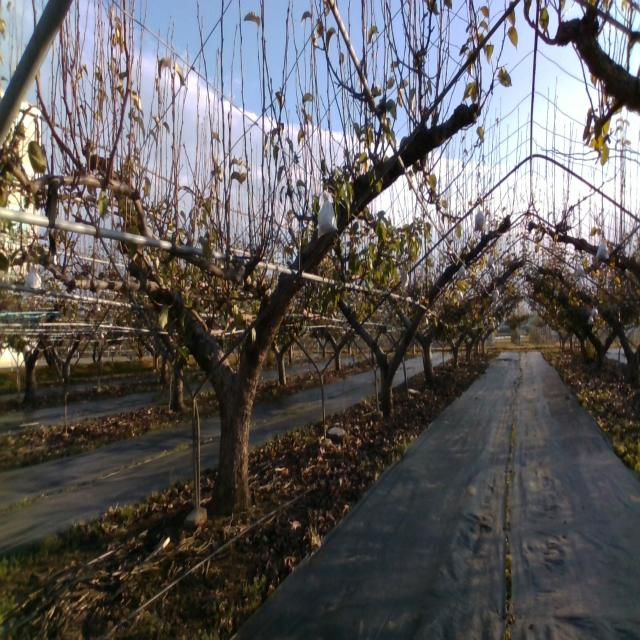pearbags: (316, 190, 339, 238), (472, 204, 488, 232), (594, 237, 609, 261)
